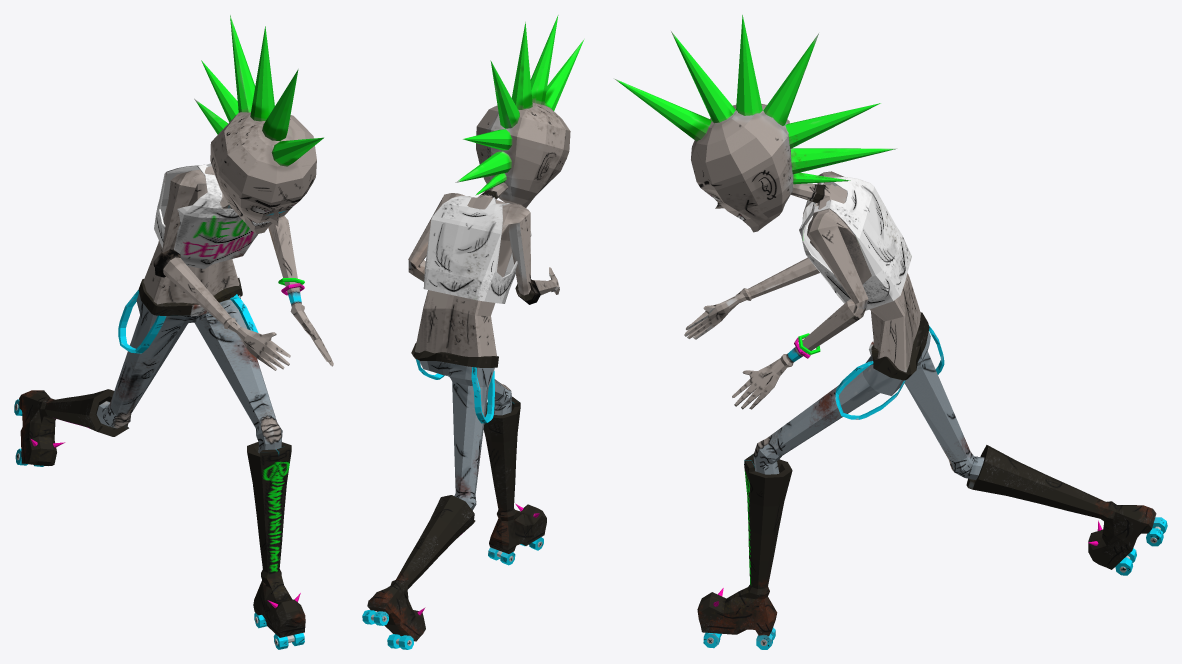
Rendered from punkAnimation_000013.obj.
3 views of the same model, side by side, from view 1: azimuth 30°, elevation 25°; view 2: azimuth 150°, elevation 25°; view 3: azimuth 270°, elevation 25° (orthographic). The views are drawn at different scales.
Parts seen in each view (by area): view 1: Cube.004_Cube.003; view 2: Cube.004_Cube.003; view 3: Cube.004_Cube.003.
Boxes of the visible parts, x1=… form: Cube.004_Cube.003: x1=14, y1=15, x2=333, y2=649; Cube.004_Cube.003: x1=362, y1=15, x2=584, y2=649; Cube.004_Cube.003: x1=614, y1=15, x2=1167, y2=649.
Size of the model in its own units: 1.6 by 6.59 by 5.3.
